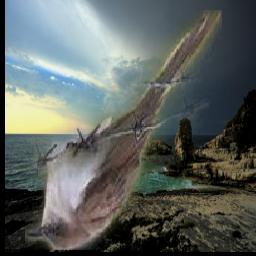Cuckoo: (26, 10, 223, 250)
